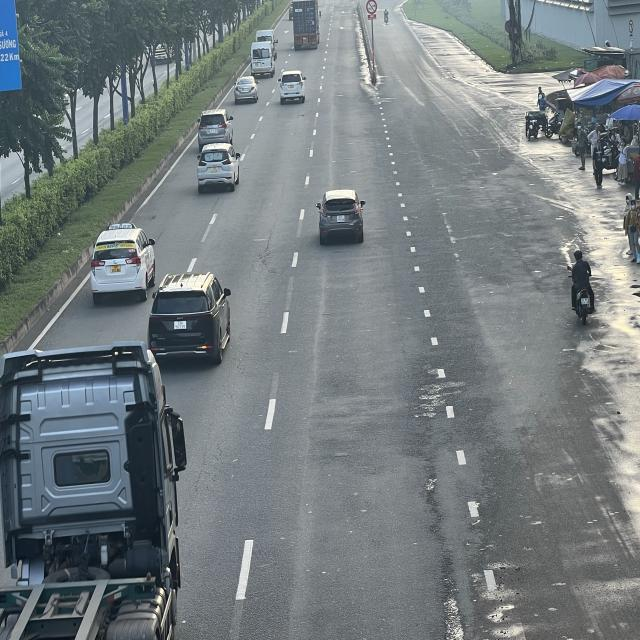car: (146, 273, 232, 366), (92, 222, 158, 298), (319, 188, 368, 242), (195, 141, 241, 189), (197, 110, 234, 148), (279, 70, 306, 103), (235, 76, 260, 105)
container: (0, 338, 186, 638), (290, 0, 319, 48)
van: (252, 38, 277, 79)
